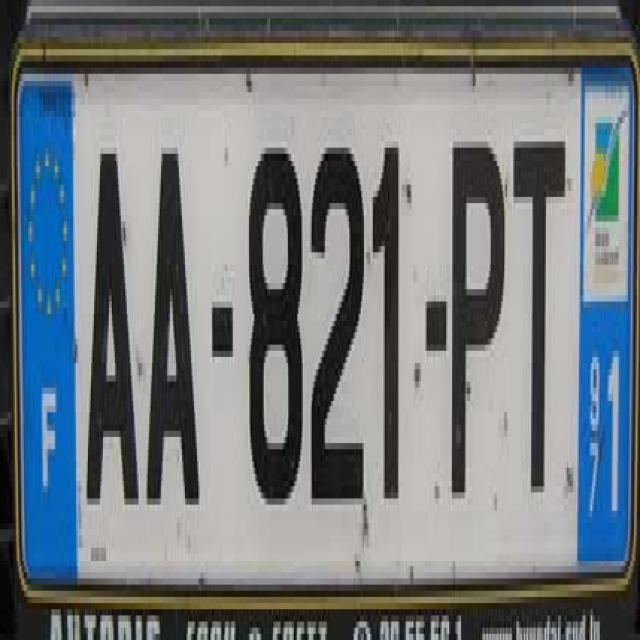EU: (9, 20, 636, 630)
France: (14, 63, 76, 576)
